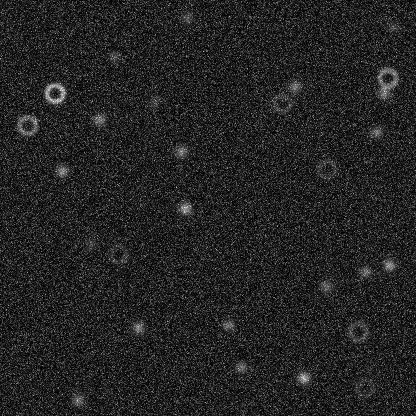Ring: (15, 113, 39, 137), (345, 319, 369, 343), (42, 80, 66, 104), (375, 66, 399, 90), (106, 242, 130, 266), (269, 91, 293, 115), (352, 375, 376, 399), (314, 156, 338, 180)
Spot: (318, 278, 334, 294), (145, 94, 161, 110), (220, 317, 236, 333), (173, 143, 189, 159), (69, 391, 85, 407), (177, 200, 193, 216), (286, 78, 302, 94), (368, 124, 384, 140), (83, 236, 99, 252), (130, 319, 146, 335), (384, 19, 400, 35), (357, 263, 373, 279), (295, 370, 311, 386), (91, 111, 107, 127), (53, 162, 69, 178), (106, 48, 122, 64), (375, 85, 391, 101), (179, 9, 195, 25), (381, 256, 397, 272), (232, 359, 248, 375)
